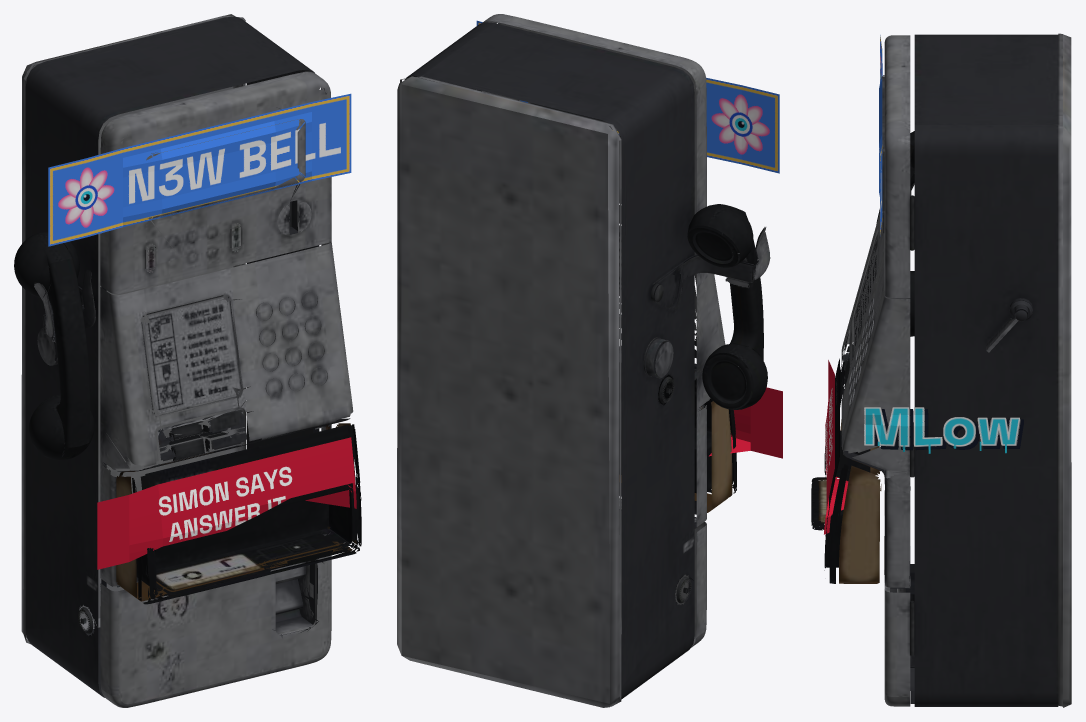
File: nyb_diehard_phone.glb
3 views of the same model, side by side, from view 1: azimuth 30°, elevation 25°; view 2: azimuth 150°, elevation 25°; view 3: azimuth 270°, elevation 25° (orthographic).
Visible parts, largest first — view 1: korean_public_payphone_01, stk_lbl_3ec3bd0bb4.png, stk_lbl_760552f60c.png; view 2: korean_public_payphone_01, stk_lbl_3ec3bd0bb4.png, stk_lbl_760552f60c.png; view 3: korean_public_payphone_01, stk_tag_mlow_cyan.png, stk_lbl_760552f60c.png, stk_lbl_3ec3bd0bb4.png.
Part boxes in pixels (x1=…): korean_public_payphone_01: x1=14, y1=14, x2=361, y2=707; stk_lbl_3ec3bd0bb4.png: x1=48, y1=93, x2=351, y2=246; stk_lbl_760552f60c.png: x1=97, y1=437, x2=356, y2=569; korean_public_payphone_01: x1=397, y1=14, x2=770, y2=707; stk_lbl_3ec3bd0bb4.png: x1=476, y1=20, x2=779, y2=173; stk_lbl_760552f60c.png: x1=709, y1=387, x2=782, y2=458; korean_public_payphone_01: x1=811, y1=33, x2=1071, y2=707; stk_tag_mlow_cyan.png: x1=864, y1=407, x2=1023, y2=453; stk_lbl_760552f60c.png: x1=824, y1=360, x2=848, y2=534; stk_lbl_3ec3bd0bb4.png: x1=879, y1=35, x2=882, y2=236.
Bounding box in the file's own units: 0.4006 × 0.7378 × 0.3002.
4 materials, 4 textured.
